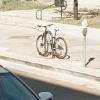Bicycle: (28, 19, 71, 61)
